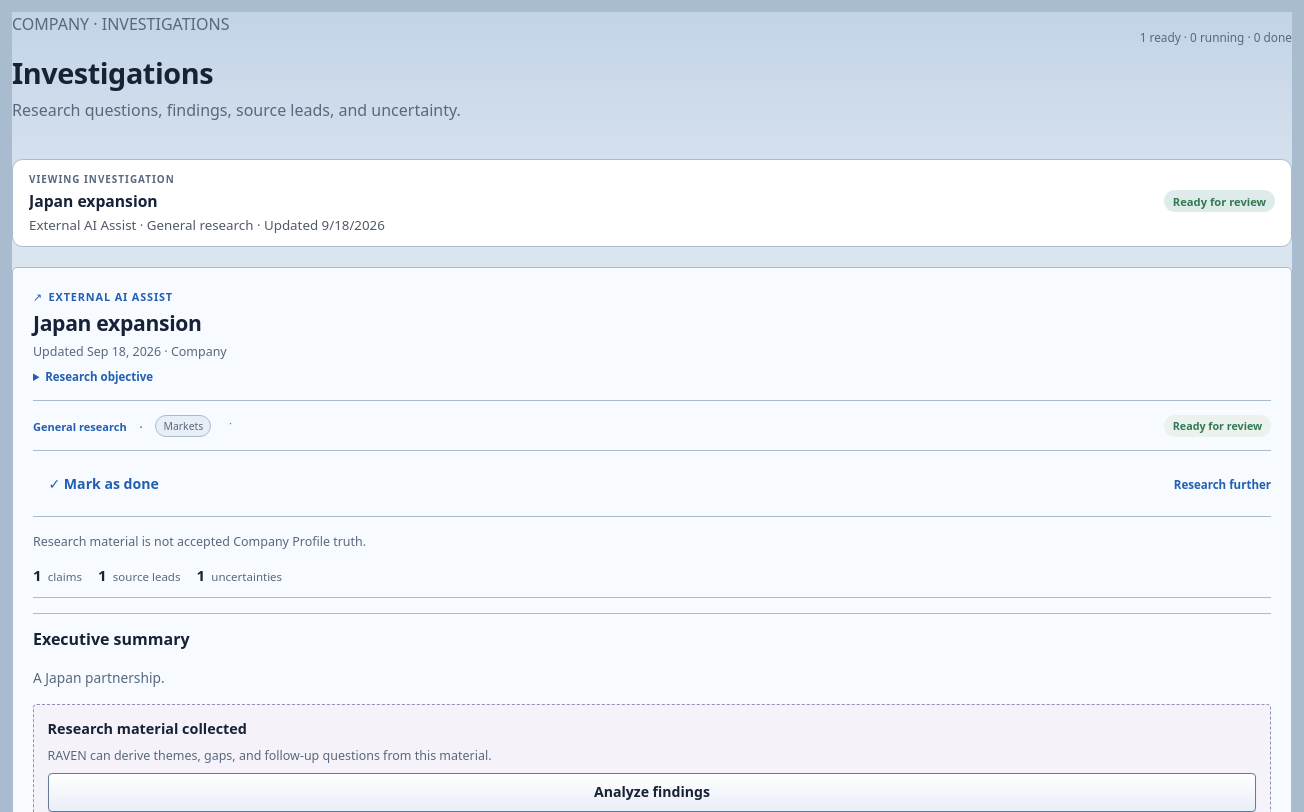
Test: CompanyInvestigationsTab › marks material done and reopens it through the server
Expected: the heading "Japan expansion" is shown, [33, 308, 227, 336]
Click the button "✓ Mark as done" at (104, 485), box [33, 466, 174, 504]
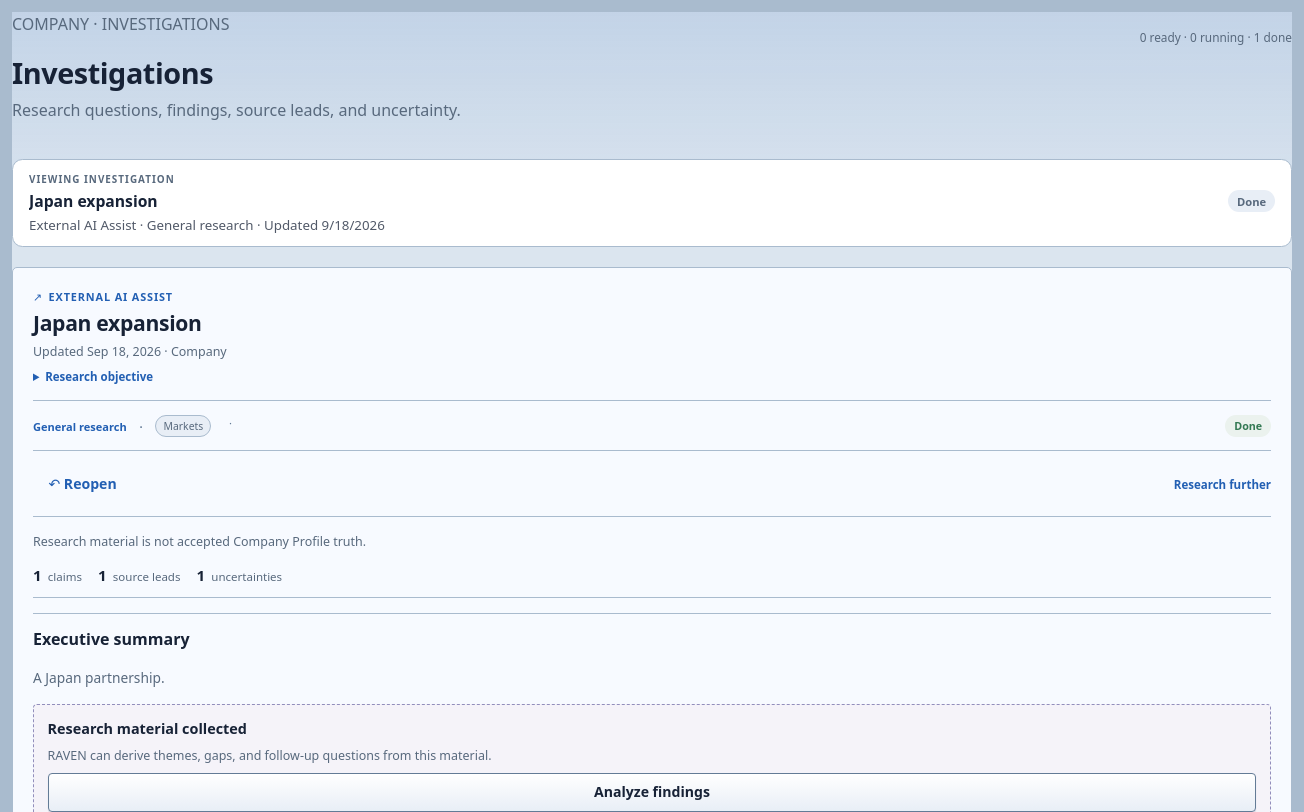
Expected: the button "↶ Reopen" is shown
Click the button "↶ Reopen" at (82, 485), box [33, 466, 132, 504]
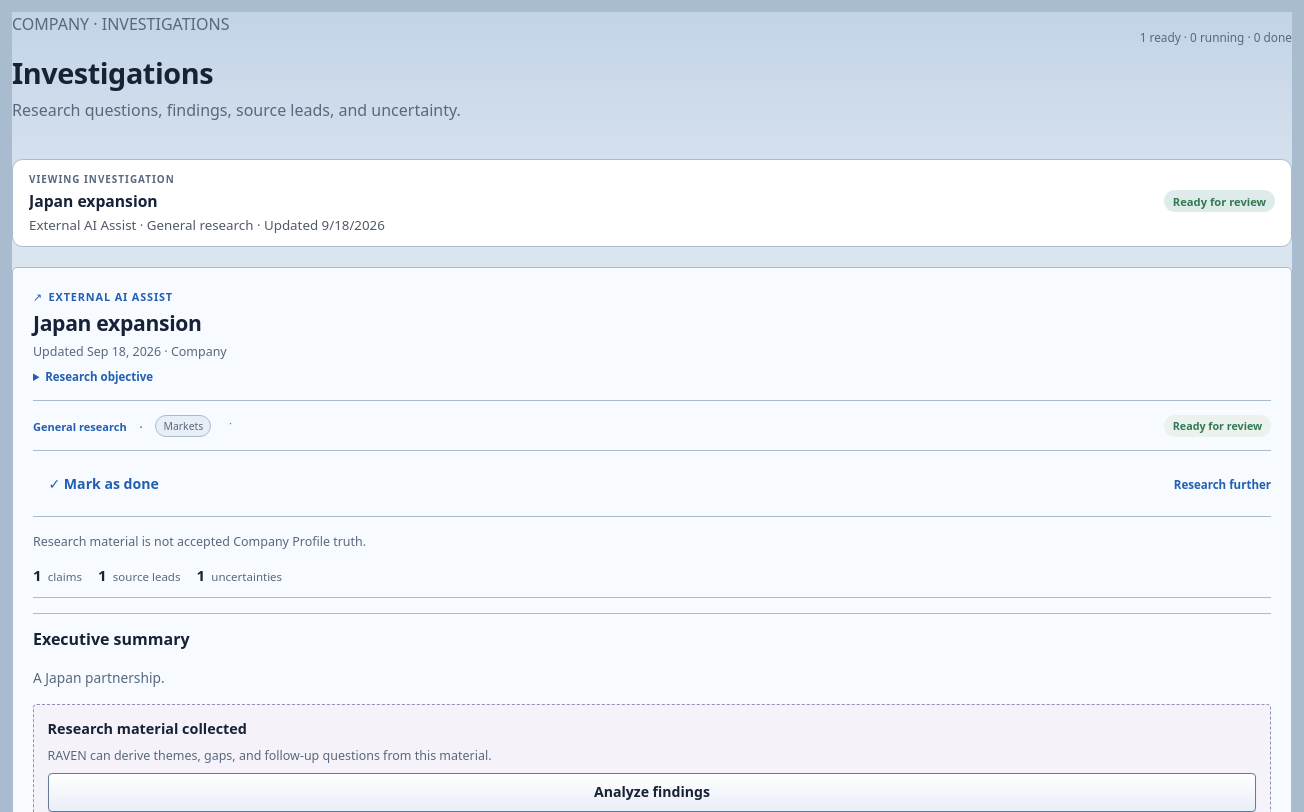
Expected: the button "✓ Mark as done" is shown, [33, 466, 174, 504]
